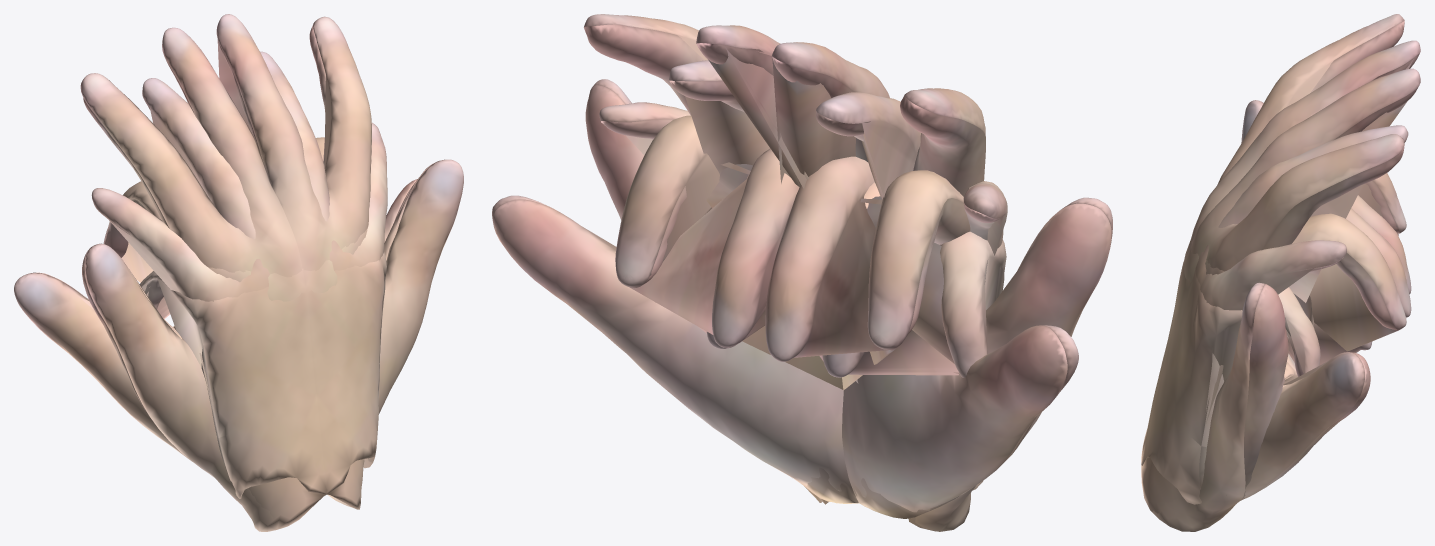
The model's file is fanghaende.glb.
The picture shows the model from 3 angles, left to right: view 1: azimuth 30°, elevation 25°; view 2: azimuth 150°, elevation 25°; view 3: azimuth 270°, elevation 25°; orthographic projection. The views are drawn at different scales.
Parts seen in each view (by area): view 1: links_offen, rechts_offen, links_zu, rechts_zu; view 2: links_offen, rechts_offen, links_zu, rechts_zu; view 3: links_offen, rechts_offen, links_zu, rechts_zu.
Part boxes in pixels (left/top/right/bottom): links_offen: left=91, top=14, right=417, bottom=509; rechts_offen: left=14, top=27, right=387, bottom=526; links_zu: left=139, top=137, right=463, bottom=509; rechts_zu: left=82, top=181, right=386, bottom=531; links_offen: left=492, top=14, right=1007, bottom=504; rechts_offen: left=599, top=42, right=1078, bottom=531; links_zu: left=585, top=79, right=1006, bottom=502; rechts_zu: left=698, top=156, right=1112, bottom=531; links_offen: left=1141, top=68, right=1420, bottom=513; rechts_offen: left=1141, top=14, right=1420, bottom=504; links_zu: left=1152, top=208, right=1411, bottom=531; rechts_zu: left=1155, top=100, right=1411, bottom=446.
Size of the model in its own units: 0.1637 by 0.1552 by 0.0871.
2 materials, 2 textured.
